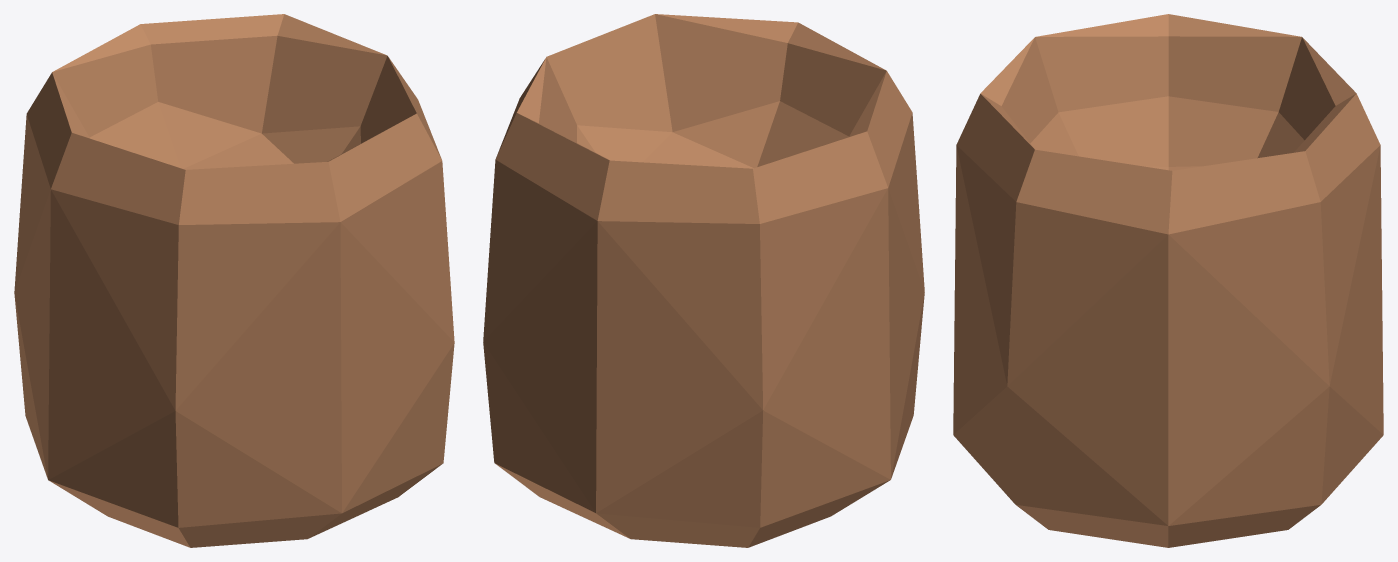
File: flowerbase.glb
3 views of the same model, side by side, from view 1: azimuth 30°, elevation 25°; view 2: azimuth 150°, elevation 25°; view 3: azimuth 270°, elevation 25° (orthographic).
Parts seen in each view (by area): view 1: Cube; view 2: Cube; view 3: Cube.
Boxes of the visible parts, box(x1,y1,x2,y2) form: Cube: box(14, 14, 454, 547); Cube: box(483, 14, 924, 547); Cube: box(953, 14, 1383, 547).
Bounding box in the file's own units: 1.79 × 1.87 × 1.79.
